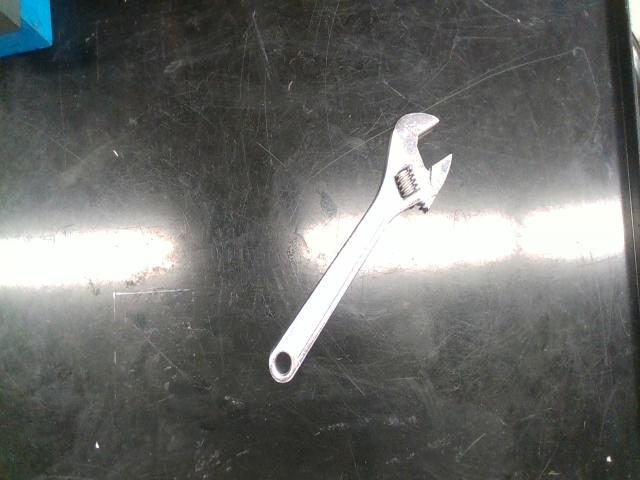Adjustable spanner: (269, 113, 452, 383)
